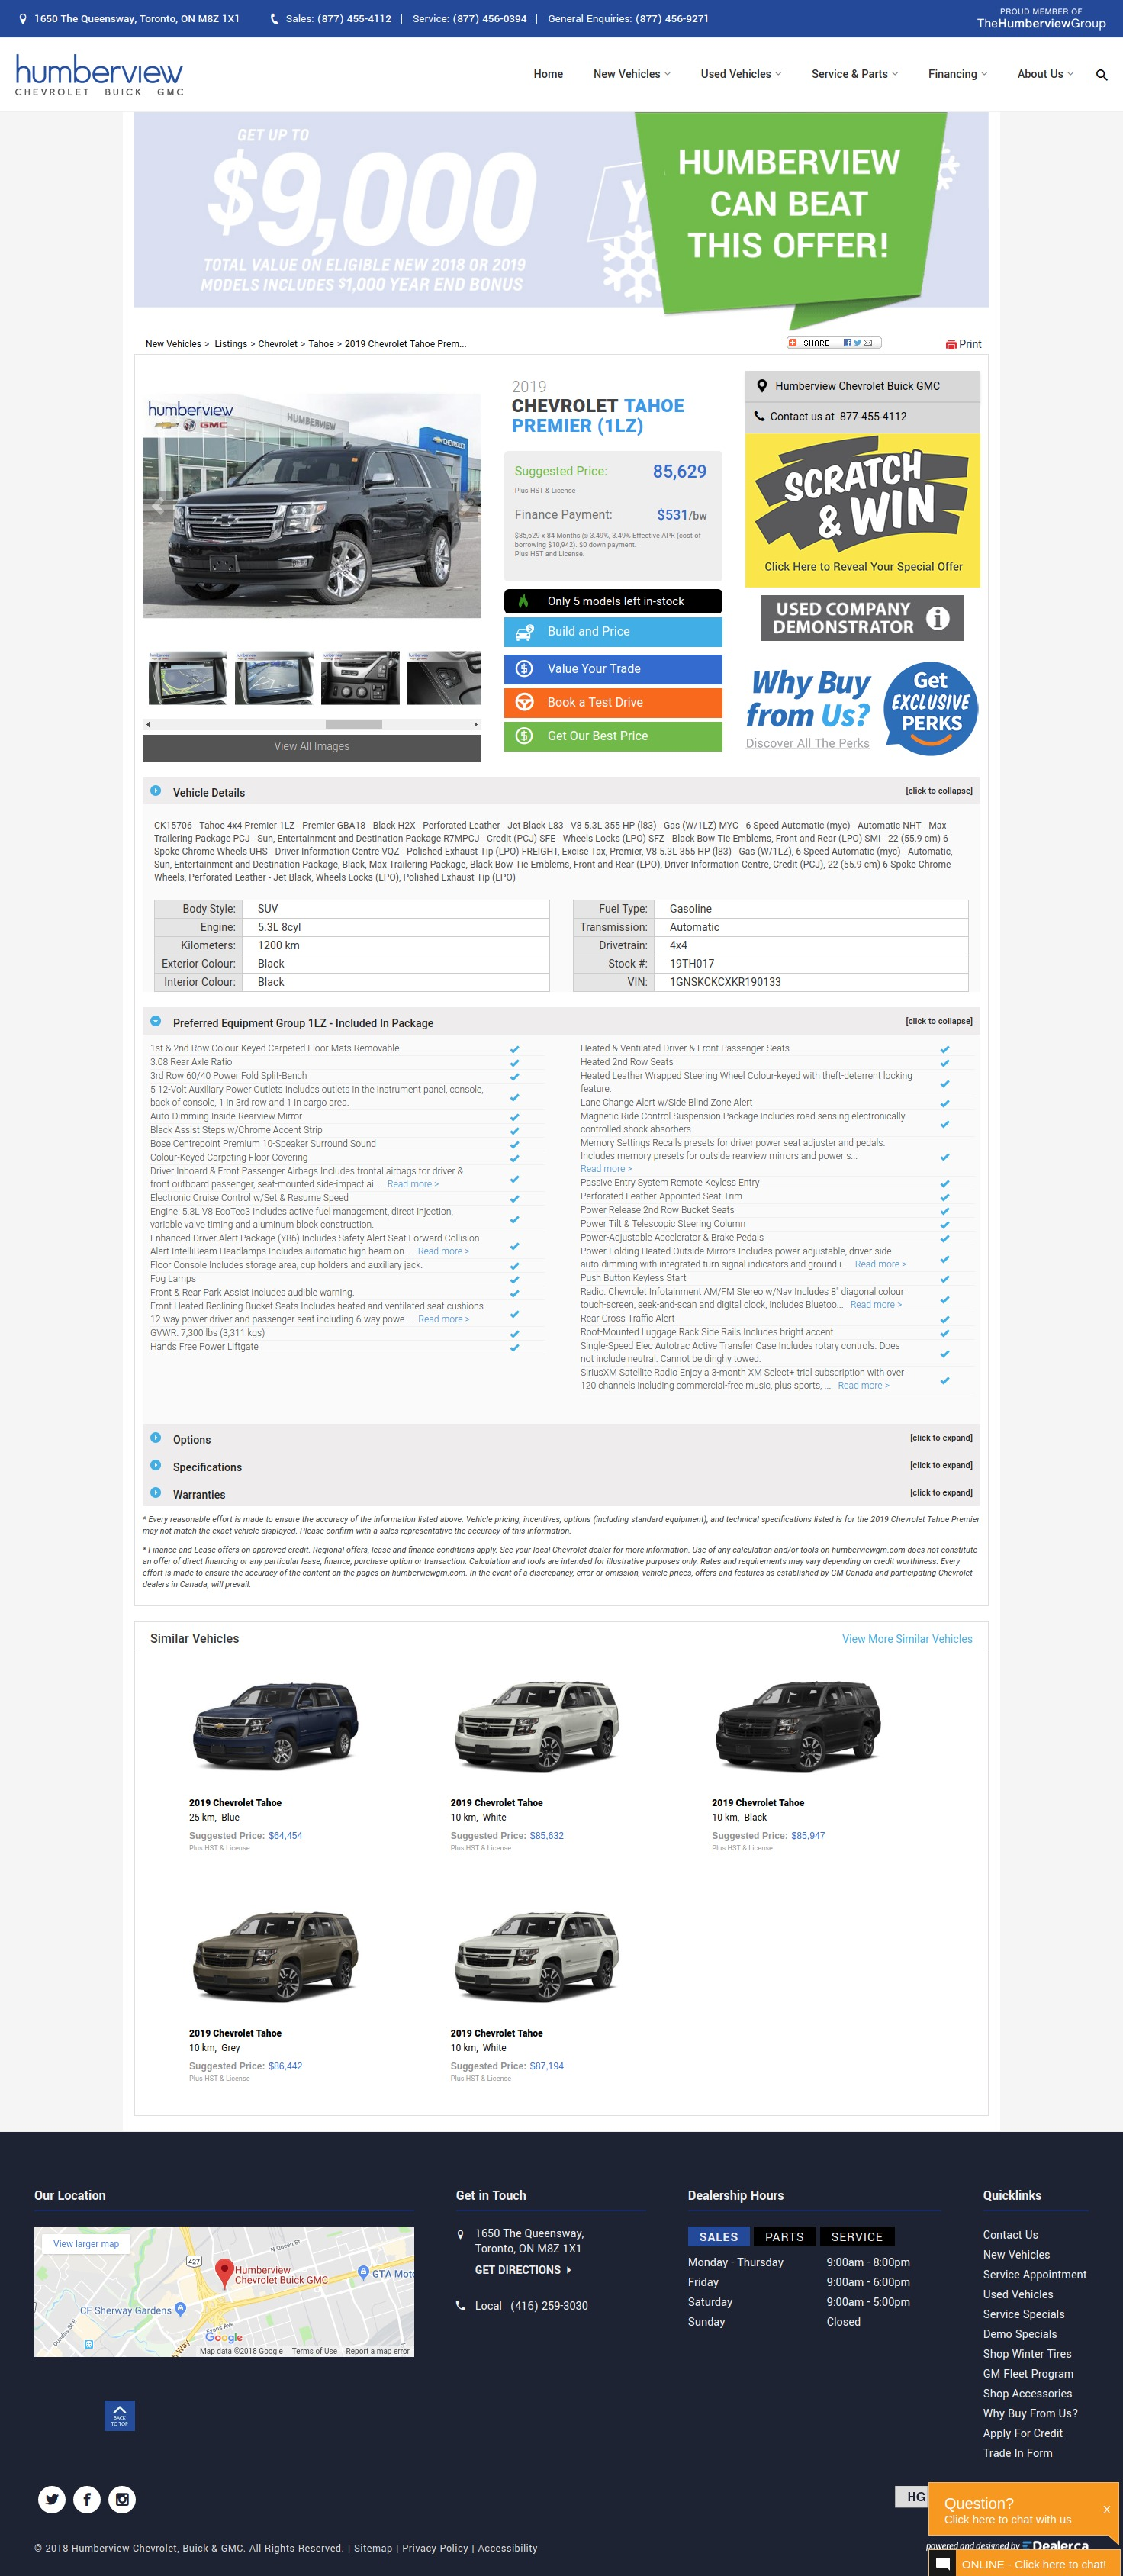car: (474, 721, 478, 729)
